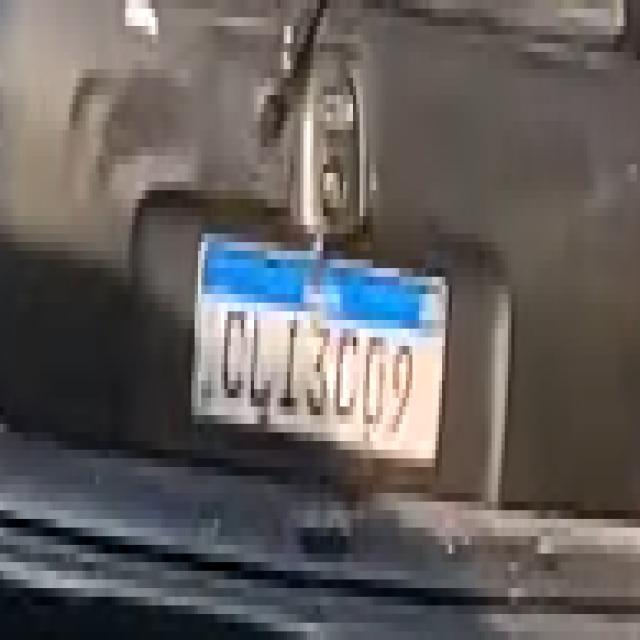Placa_mercosul_carro: (193, 229, 448, 467)
